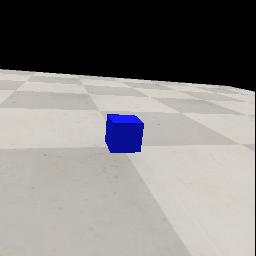box: (105, 114, 144, 153)
